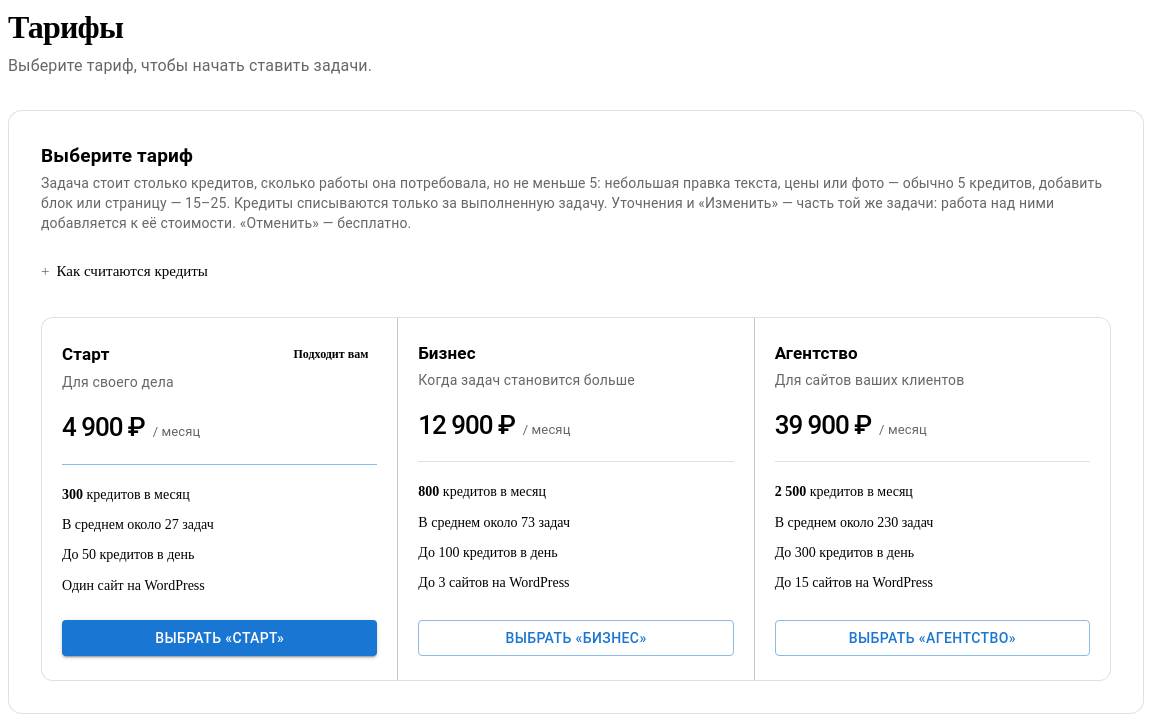
choosing a tariff › opens the checkout of the chosen tariff and returns the focus to its button on close
Click the button "Выбрать «Бизнес»" at coordinates (576, 638), box [418,620,734,656]
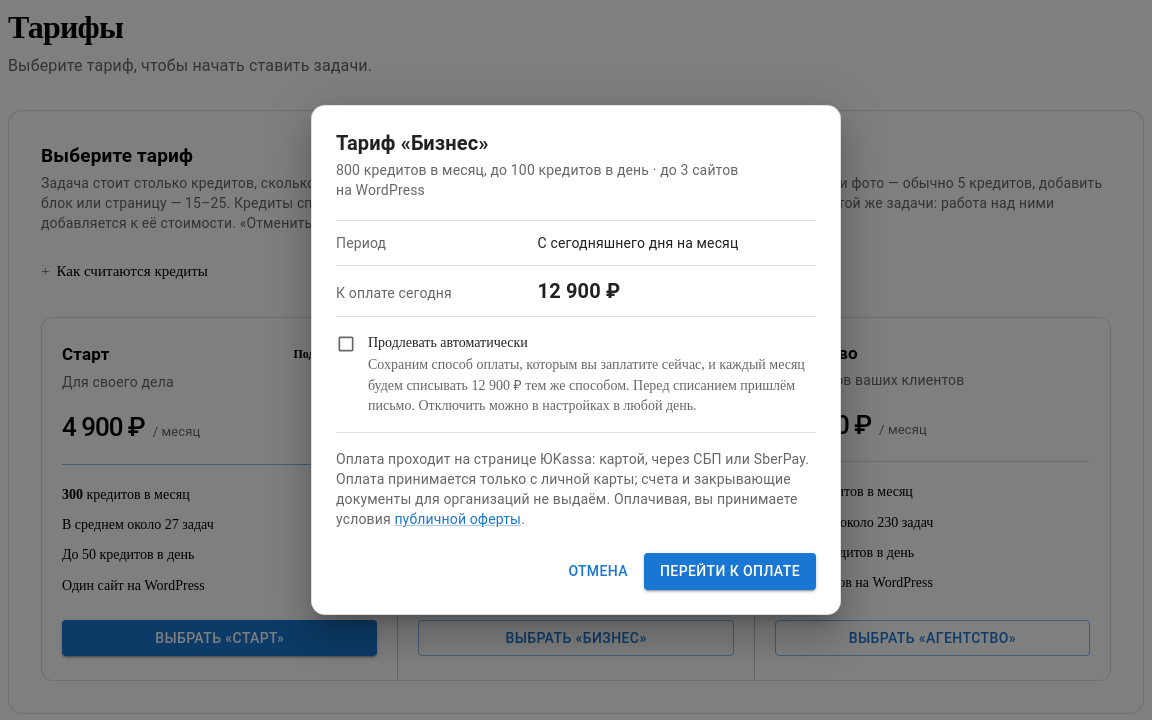
Expected: the dialog "Тариф «Бизнес»" shows "12 900 ₽", [368,357,805,413]
Click the button "Отмена" at coordinates (598, 572), box [560,553,636,590]
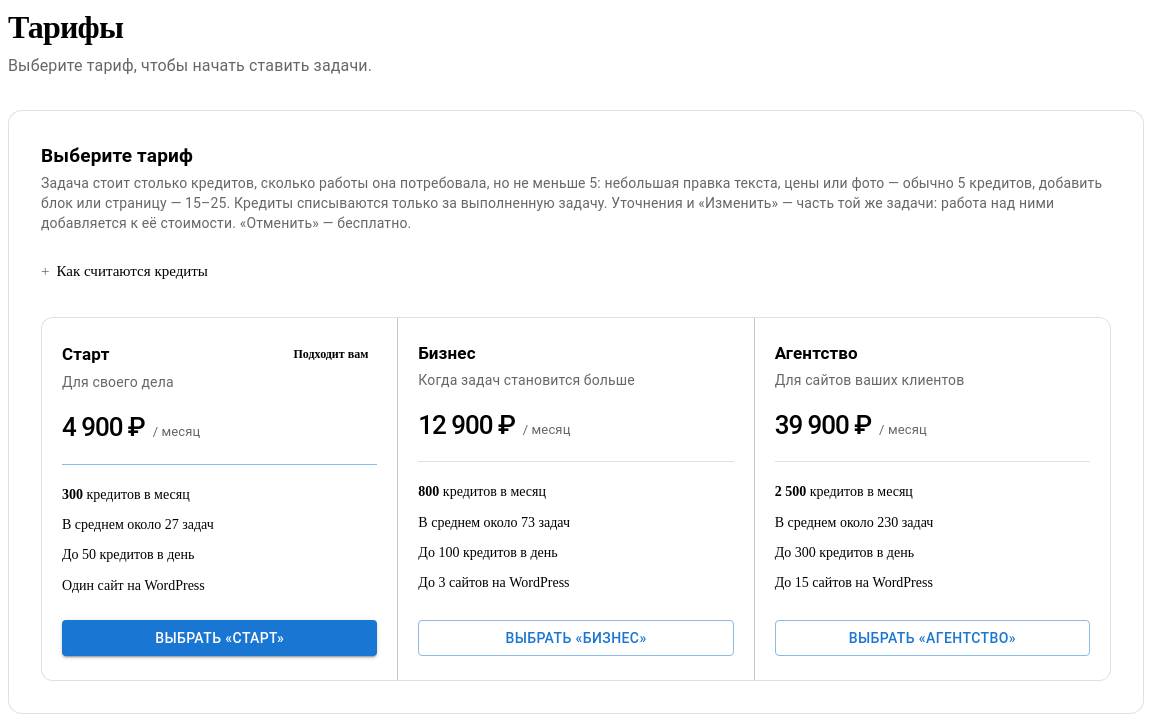
Expected: the dialog is gone
